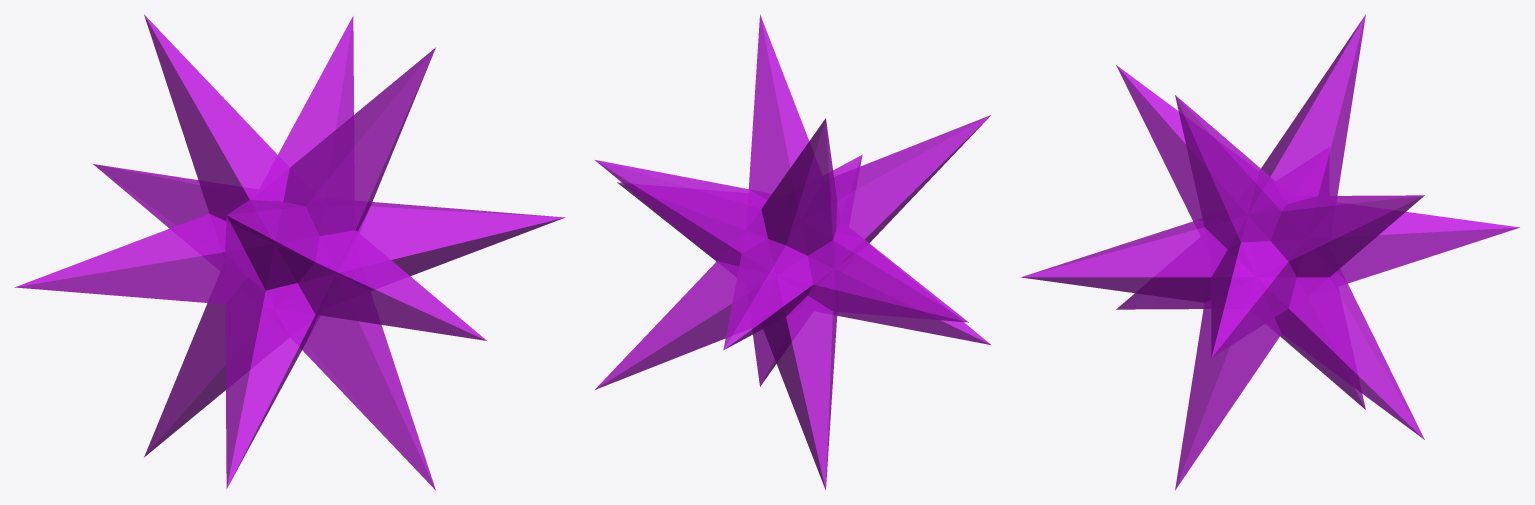
Rendered from fractalmedialtriambicicosahedron0.glb.
The picture shows the model from 3 angles, left to right: view 1: azimuth 30°, elevation 25°; view 2: azimuth 150°, elevation 25°; view 3: azimuth 270°, elevation 25°; orthographic projection. The views are drawn at different scales.
Bounding box in the file's own units: 11.24 × 9.82 × 11.24.
